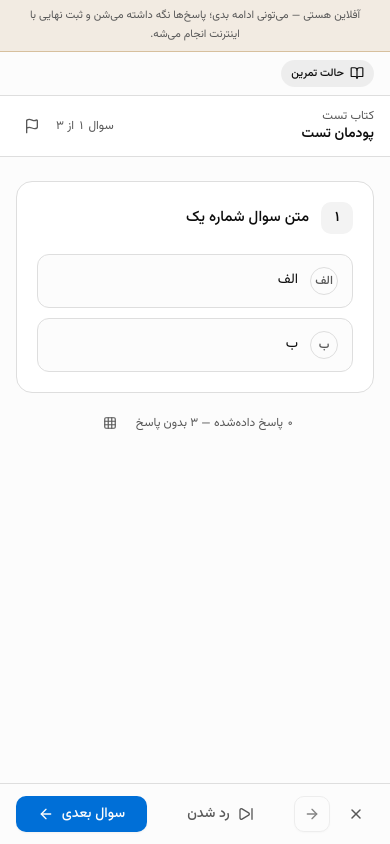
Test: ExamView question navigation stability › shows the next question synchronously when سوال بعدی is clicked
Expected: the text "متن سوال شماره یک" is shown, [186, 202, 309, 234]
Click the button "سوال بعدی" at (82, 814), box [16, 796, 147, 832]
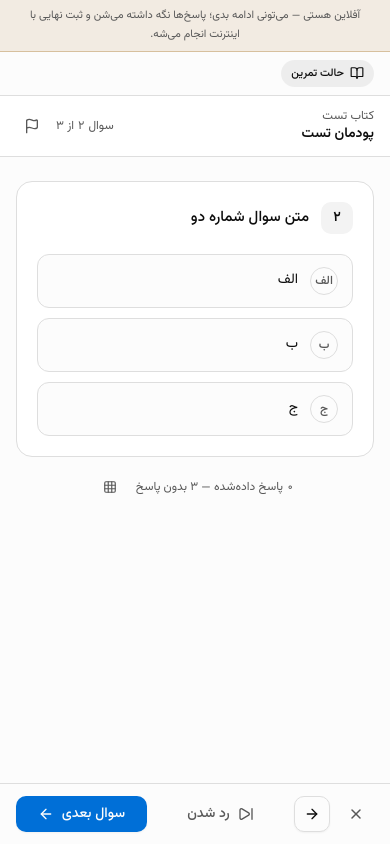
Expected: the text "متن سوال شماره دو" is shown, [191, 202, 309, 234]
